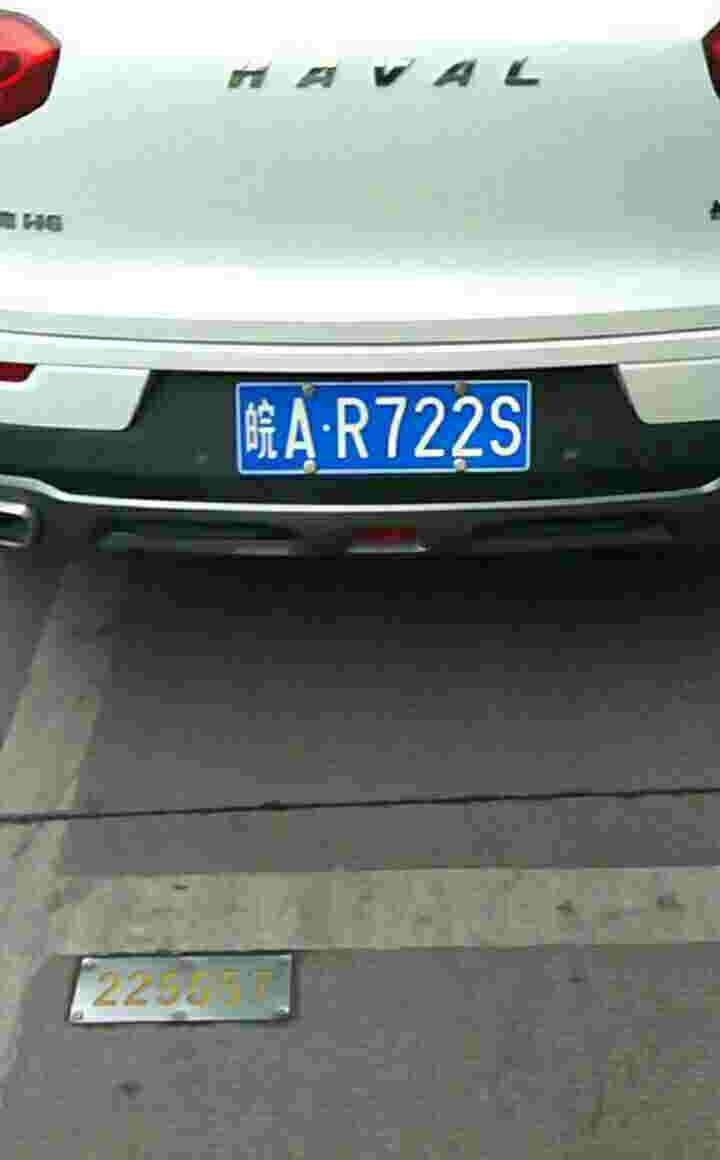license_plate: (236, 386, 535, 473)
